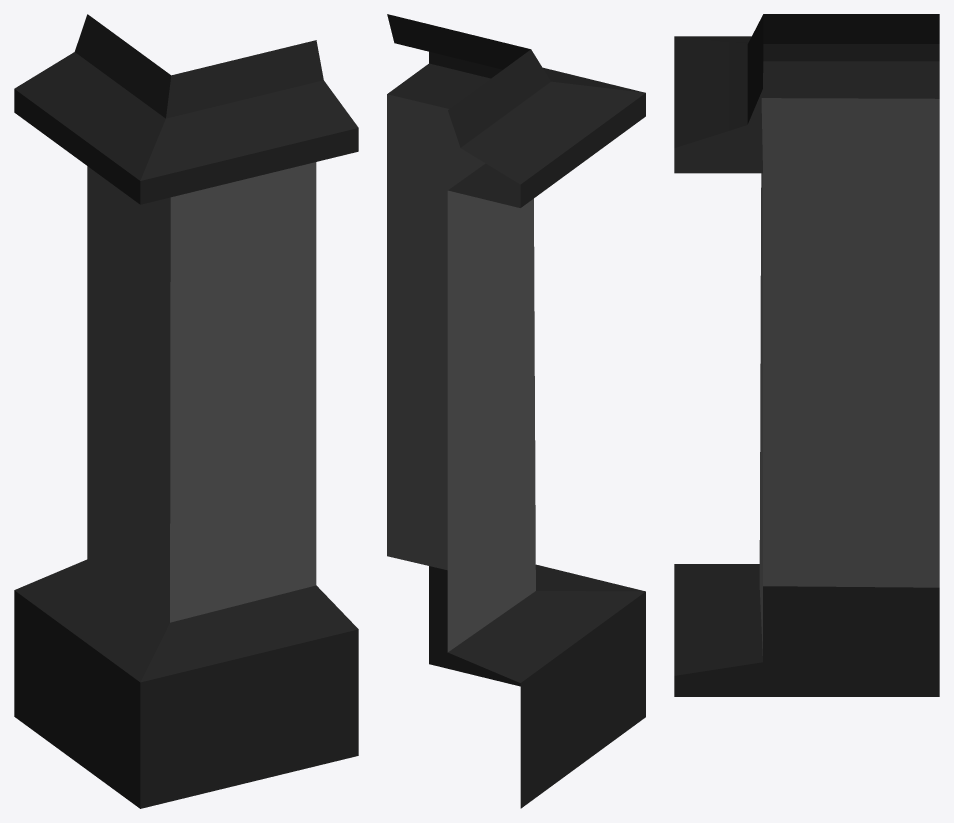
File: corner_wall_inside_plain_C.fbx
3 renders of one model, left to right at view 1: azimuth 30°, elevation 25°; view 2: azimuth 150°, elevation 25°; view 3: azimuth 270°, elevation 25°, orthographic. The views are drawn at different scales.
Parts seen in each view (by area): view 1: corner_wall_inside_plain_C; view 2: corner_wall_inside_plain_C; view 3: corner_wall_inside_plain_C.
Boxes of the visible parts, <box> form: corner_wall_inside_plain_C: <box>14,14,358,808</box>; corner_wall_inside_plain_C: <box>387,14,645,808</box>; corner_wall_inside_plain_C: <box>674,14,939,696</box>.
Size of the model in its own units: 100 by 300 by 100.
